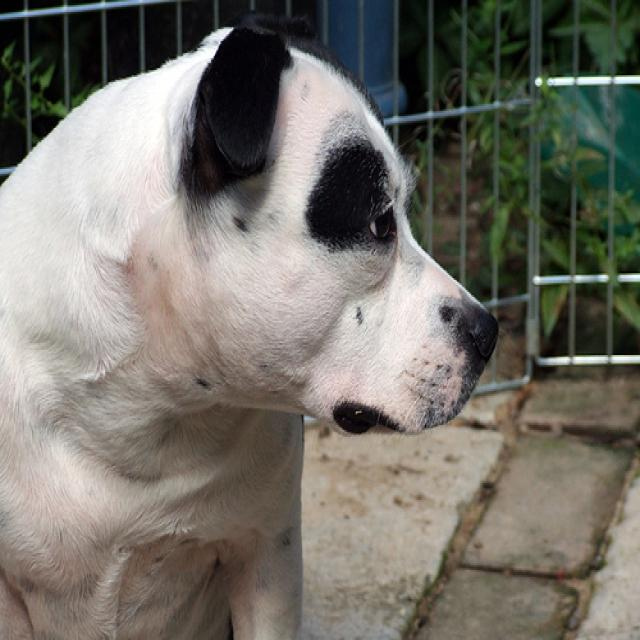dog-staffordshire_bull_terrier: (1, 10, 502, 637)
